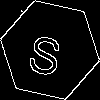S: (25, 25, 67, 78)
